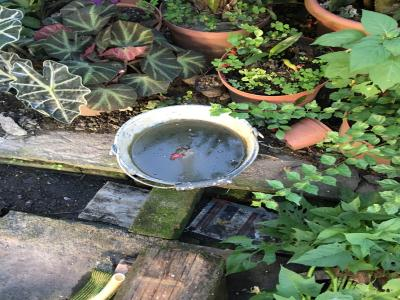bowl: (107, 96, 264, 194)
